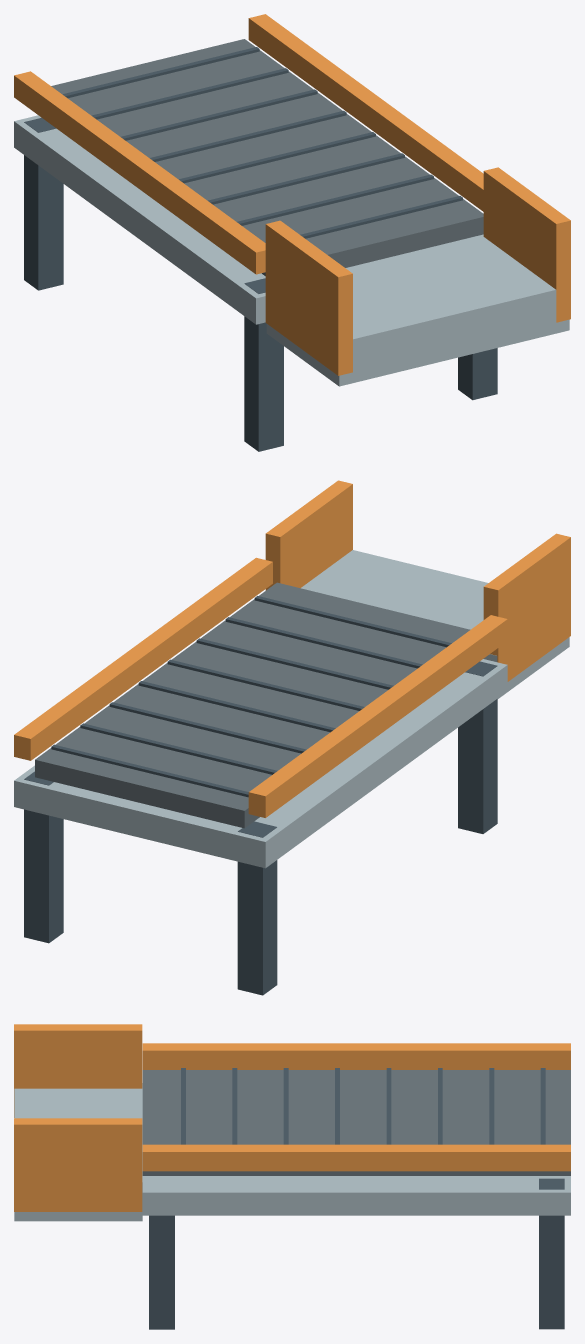
File: discharge-chute-conveyor.glb
The picture shows the model from 3 angles, top to bottom: view 1: azimuth 30°, elevation 25°; view 2: azimuth 150°, elevation 25°; view 3: azimuth 270°, elevation 25°; orthographic projection. The views are drawn at different scales.
Visible parts, largest first — view 1: rubber, orange, steel, dark; view 2: rubber, orange, steel, dark; view 3: orange, rubber, steel, dark.
Part boxes in pixels (x1=…): rubber: x1=51, y1=39, x2=483, y2=275; orange: x1=14, y1=14, x2=570, y2=375; steel: x1=14, y1=115, x2=569, y2=386; dark: x1=24, y1=47, x2=497, y2=451; rubber: x1=35, y1=582, x2=470, y2=828; orange: x1=14, y1=480, x2=570, y2=817; steel: x1=14, y1=550, x2=569, y2=868; dark: x1=24, y1=596, x2=497, y2=995; orange: x1=14, y1=1024, x2=570, y2=1211; rubber: x1=142, y1=1070, x2=570, y2=1175; steel: x1=14, y1=1083, x2=570, y2=1221; dark: x1=149, y1=1068, x2=564, y2=1329.
Bounding box in the file's own units: 1.2 × 1.05 × 2.6.
